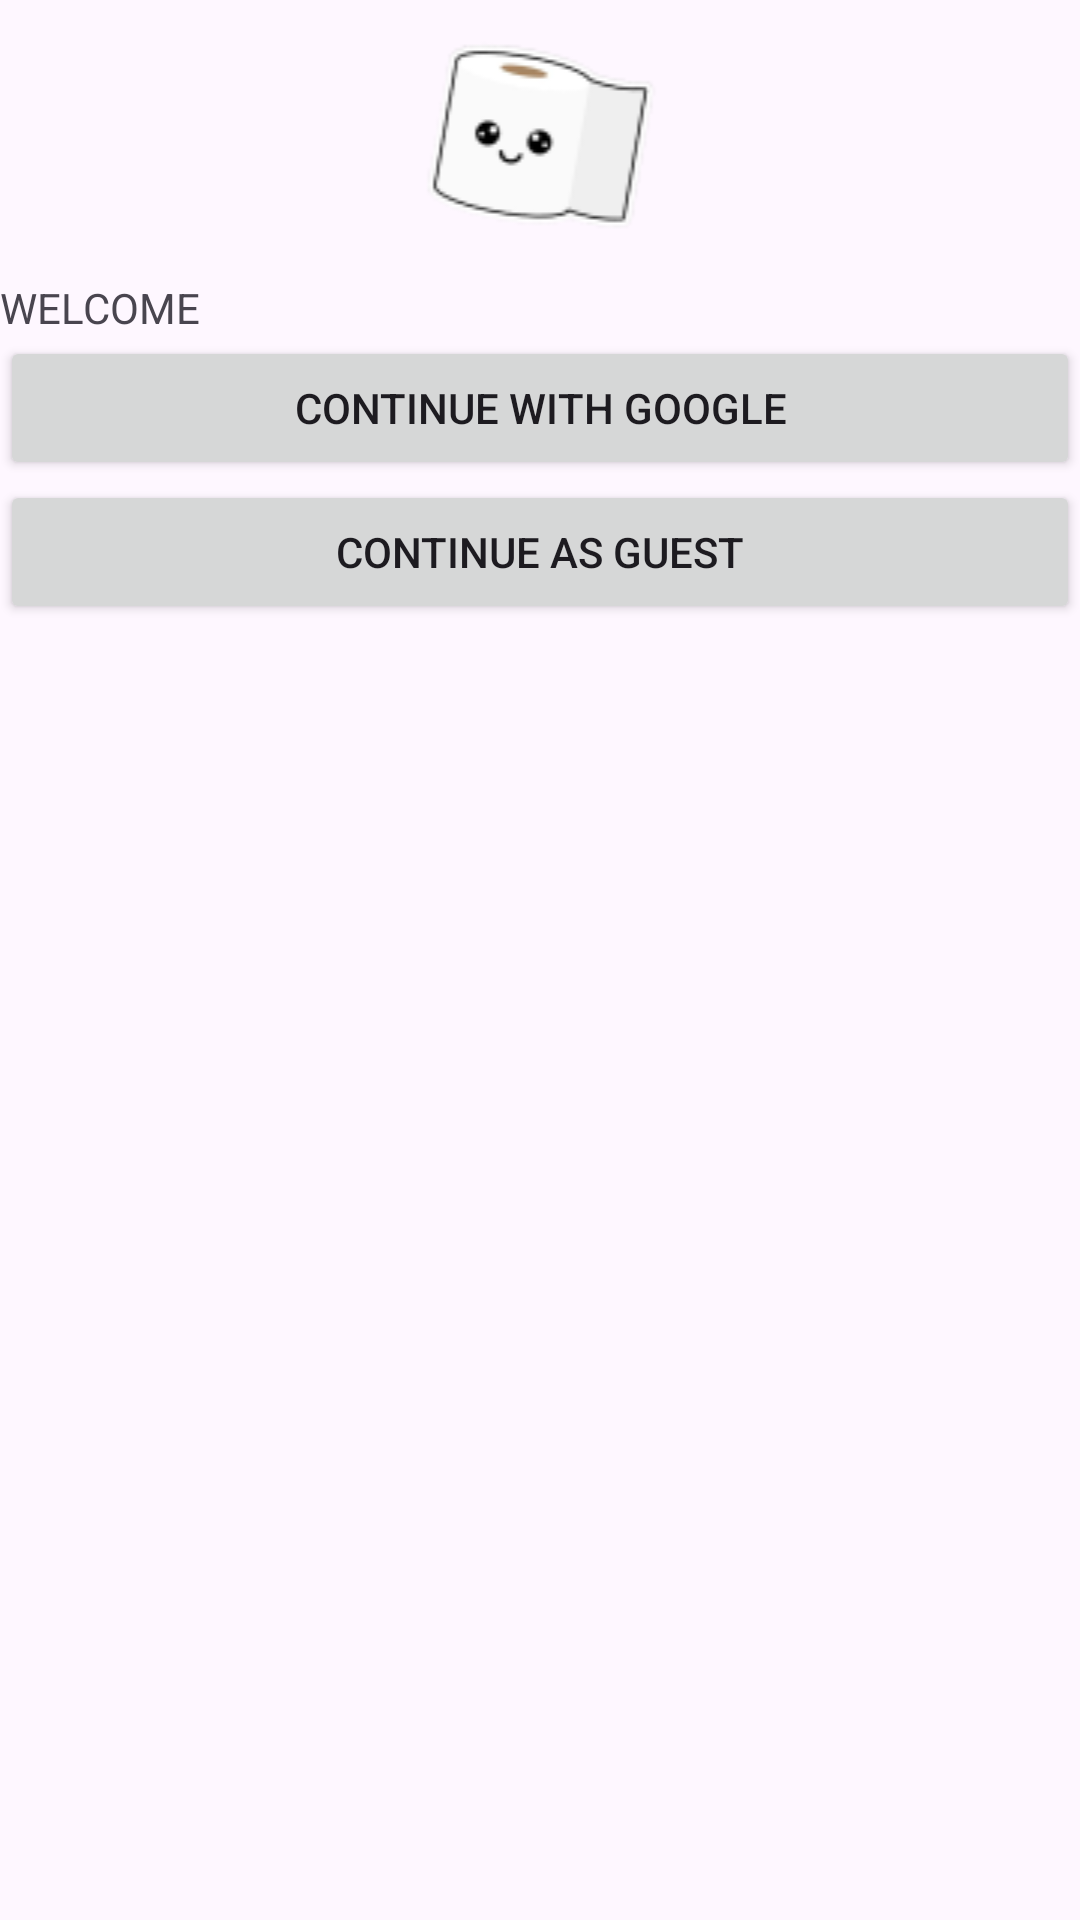

Icon bounding boxes for this 1080px×1920px phone screenshot, format {"x1": x1, "y1": y1, "x2": x2, "y2": y2}:
toilet paper: {"x1": 432, "y1": 50, "x2": 649, "y2": 223}
